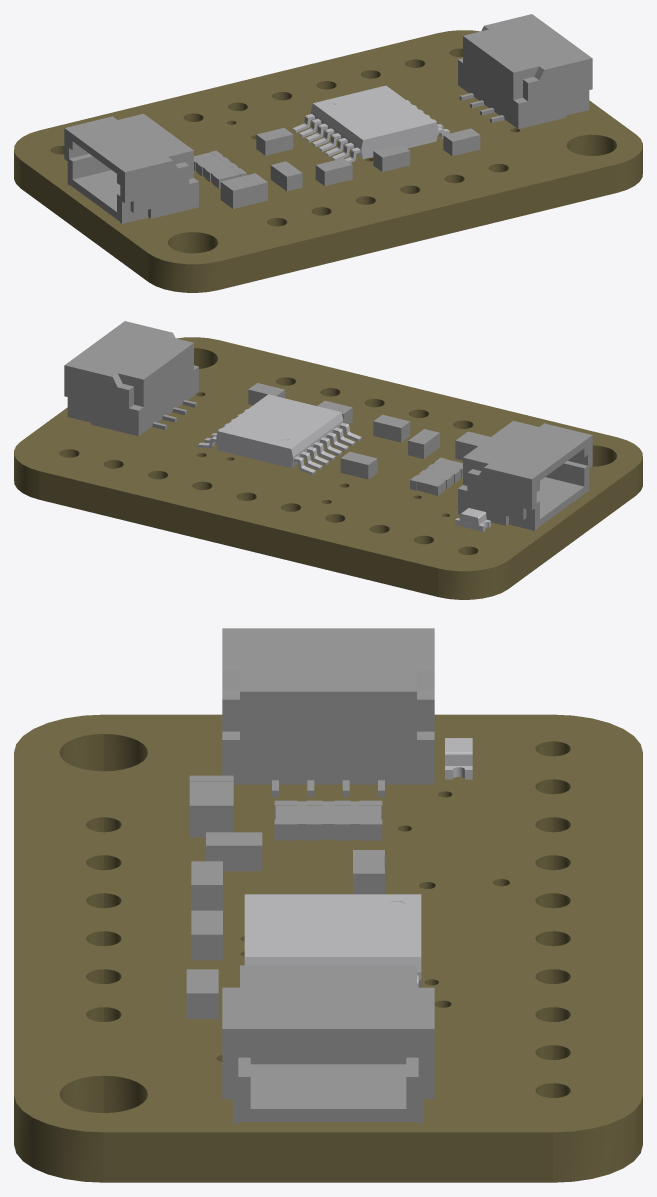
File: ada-6223.glb
3 views of the same model, one above another, from view 1: azimuth 30°, elevation 25°; view 2: azimuth 150°, elevation 25°; view 3: azimuth 270°, elevation 25° (orthographic). The views are drawn at different scales.
Parts seen in each view (by area): view 1: 0.16666666666666666_0.16666666666666666_0.08333333333333333_, 0.3333333333333333_0.3333333333333333_0.3333333333333333_0, 0.5833333333333334_0.5833333333333334_0.5833333333333334_0.8; view 2: 0.16666666666666666_0.16666666666666666_0.08333333333333333_, 0.3333333333333333_0.3333333333333333_0.3333333333333333_0, 0.5833333333333334_0.5833333333333334_0.5833333333333334_0.8; view 3: 0.16666666666666666_0.16666666666666666_0.08333333333333333_, 0.3333333333333333_0.3333333333333333_0.3333333333333333_0, 0.5833333333333334_0.5833333333333334_0.5833333333333334_0.8.
Part boxes in pixels (x1,y1,x2,y2): 0.16666666666666666_0.16666666666666666_0.08333333333333333_: (14, 30, 642, 292); 0.3333333333333333_0.3333333333333333_0.3333333333333333_0: (64, 14, 592, 223); 0.5833333333333334_0.5833333333333334_0.5833333333333334_0.8: (292, 85, 449, 162); 0.16666666666666666_0.16666666666666666_0.08333333333333333_: (14, 337, 642, 599); 0.3333333333333333_0.3333333333333333_0.3333333333333333_0: (64, 321, 592, 530); 0.5833333333333334_0.5833333333333334_0.5833333333333334_0.8: (198, 394, 490, 531); 0.16666666666666666_0.16666666666666666_0.08333333333333333_: (14, 714, 642, 1182); 0.3333333333333333_0.3333333333333333_0.3333333333333333_0: (186, 628, 434, 1123); 0.5833333333333334_0.5833333333333334_0.5833333333333334_0.8: (244, 738, 472, 987).
Size of the model in its own units: 2.79 by 0.453 by 1.78.
